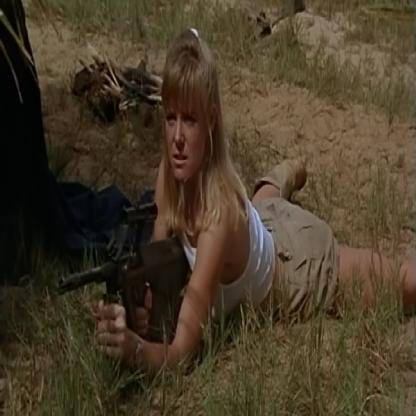Gun: (53, 197, 191, 340)
